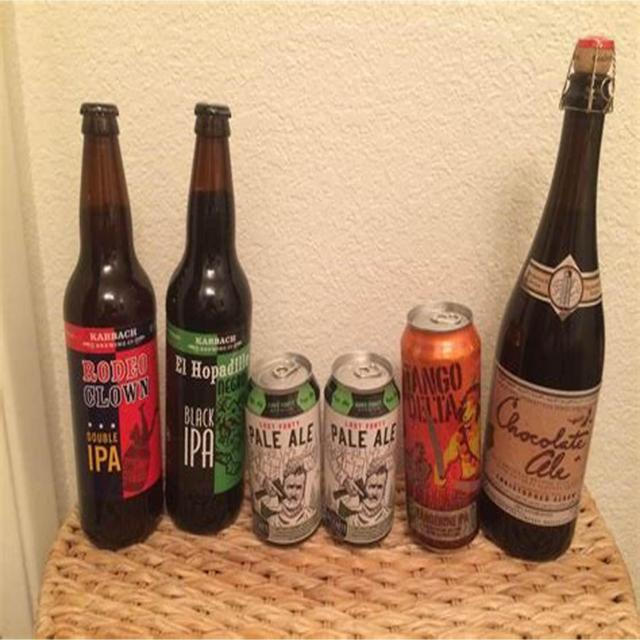can: (398, 300, 482, 550), (244, 351, 324, 546), (323, 351, 401, 546)
glass bottle: (475, 36, 615, 564), (63, 101, 165, 554), (163, 101, 252, 536)
pop tab: (272, 358, 302, 379), (353, 362, 383, 378), (430, 310, 461, 325)
